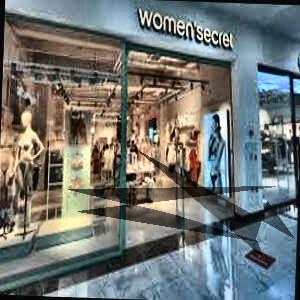women_secret: (164, 2, 300, 4)
